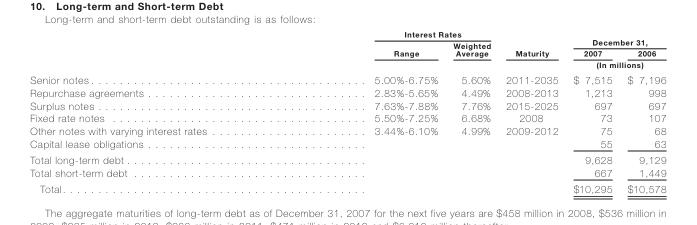table: (29, 29, 665, 194)
table column: (29, 29, 289, 194), (289, 29, 444, 194), (497, 29, 565, 194), (565, 29, 619, 194), (444, 29, 497, 194), (619, 29, 665, 194)
table column header: (29, 29, 665, 71)
table row: (29, 71, 665, 86), (29, 136, 665, 151), (29, 165, 665, 180), (29, 151, 665, 165), (29, 180, 665, 194), (29, 58, 665, 71), (29, 98, 665, 111), (29, 111, 665, 124), (29, 86, 665, 98), (29, 124, 665, 136), (29, 47, 665, 58), (29, 29, 665, 39), (29, 39, 665, 47)
table spanning cell: (289, 39, 444, 71), (497, 29, 565, 71), (289, 29, 497, 39), (565, 29, 665, 47), (444, 39, 497, 71), (565, 58, 665, 71)
